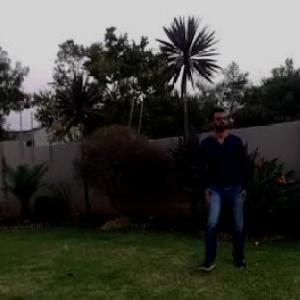follow: (191, 91, 258, 293)
